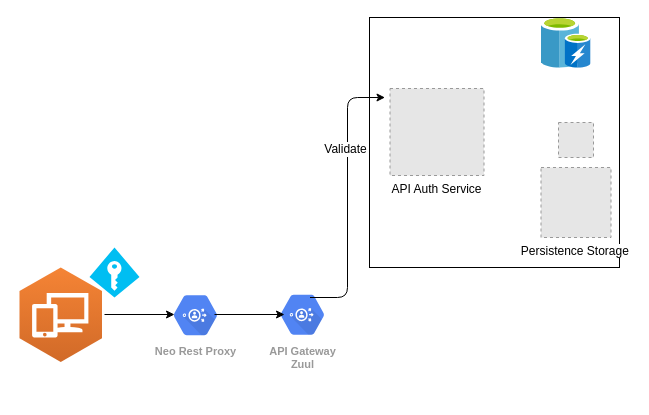
This 649x415 diagram has some shape labels left out. Grey dashed boxes stand in for pictures. Each missing label, with the box of its shape:
Client ID, AppId, Client Secret: (18, 266, 102, 362)
Tokens Cached: (540, 18, 590, 68)
